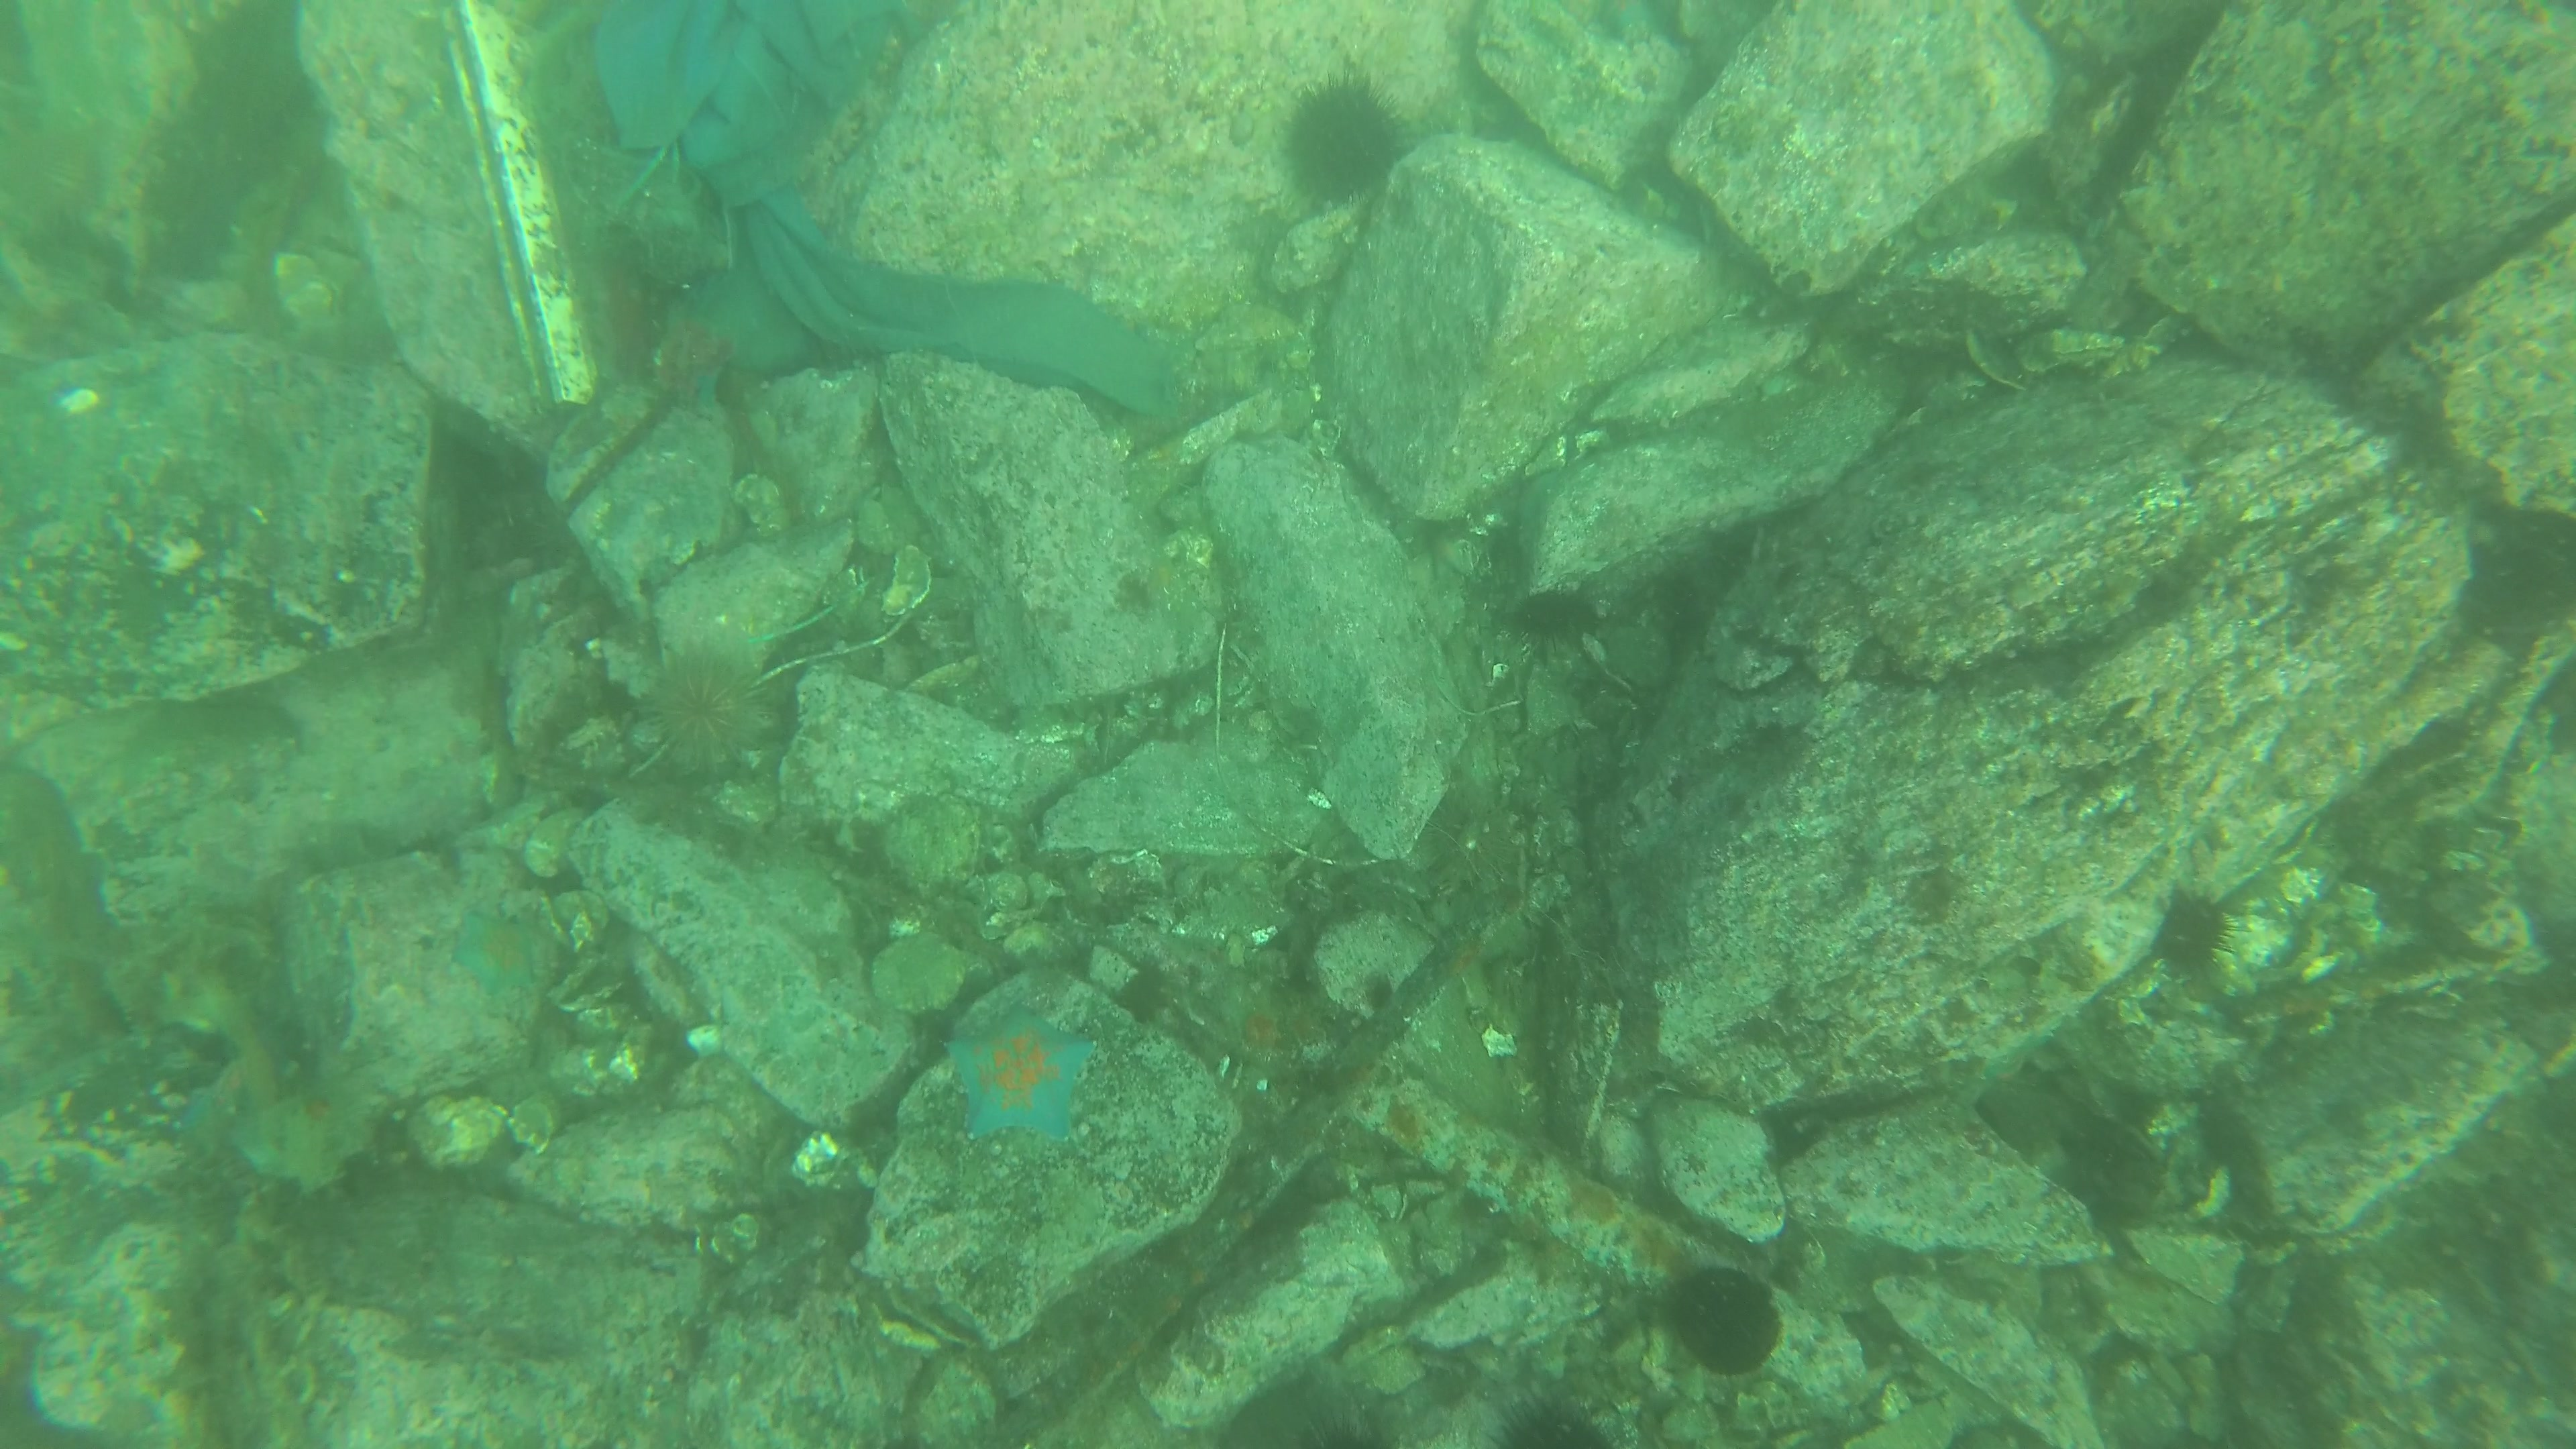echinus: (1272, 67, 1421, 209), (1660, 1246, 1796, 1378), (628, 640, 764, 764), (2144, 888, 2249, 989), (1481, 1384, 1622, 1449), (1502, 577, 1612, 642)
starfish: (936, 1000, 1108, 1141), (446, 897, 541, 994)
